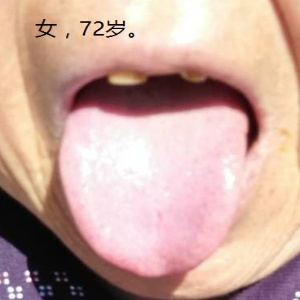st: (63, 112, 251, 283)
